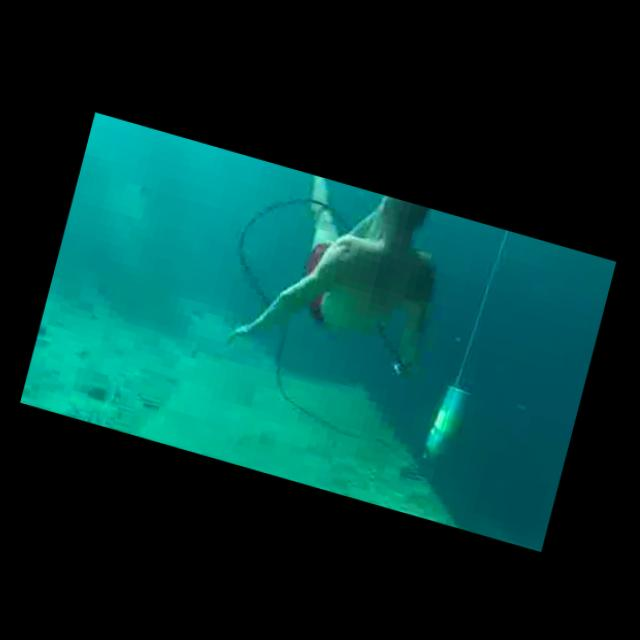human: (223, 159, 462, 392)
